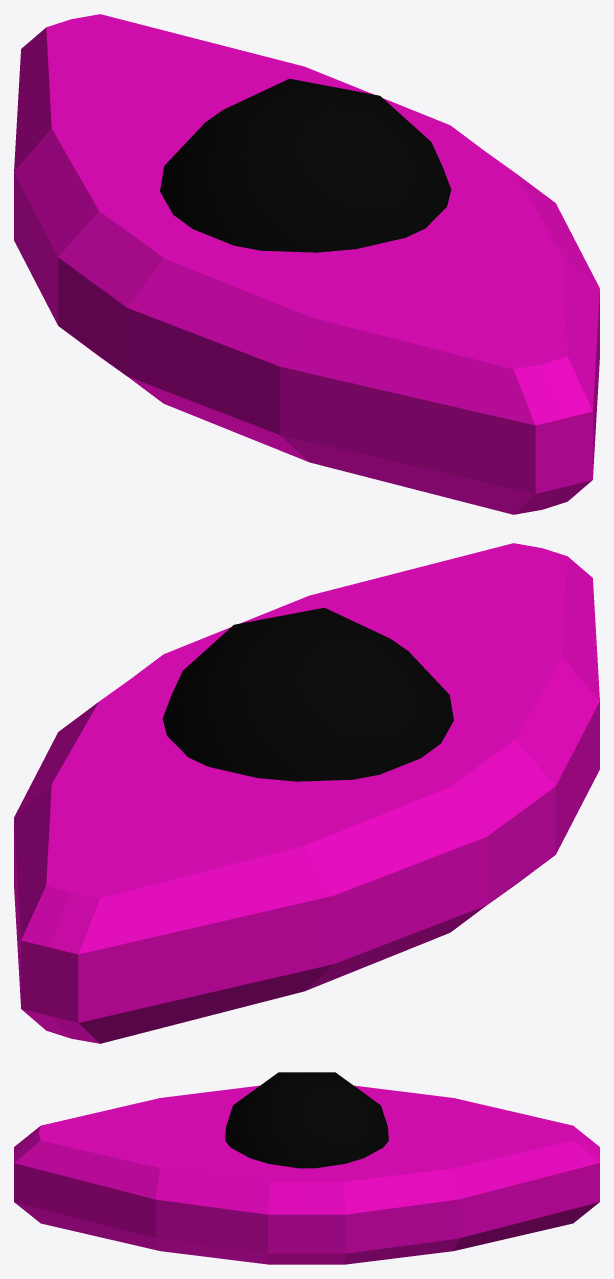
File: Vision Skill.fbx
The picture shows the model from 3 angles, top to bottom: view 1: azimuth 30°, elevation 25°; view 2: azimuth 150°, elevation 25°; view 3: azimuth 270°, elevation 25°; orthographic projection. The views are drawn at different scales.
Visible parts, largest first — view 1: Cube, Icosphere; view 2: Cube, Icosphere; view 3: Cube, Icosphere.
Part boxes in pixels (x1=…): Cube: x1=14, y1=14, x2=599, y2=514; Icosphere: x1=160, y1=78, x2=451, y2=252; Cube: x1=14, y1=543, x2=599, y2=1043; Icosphere: x1=162, y1=607, x2=453, y2=781; Cube: x1=14, y1=1085, x2=599, y2=1264; Icosphere: x1=225, y1=1072, x2=388, y2=1168.
Bounding box in the file's own units: 96.25 × 62.4 × 200.
